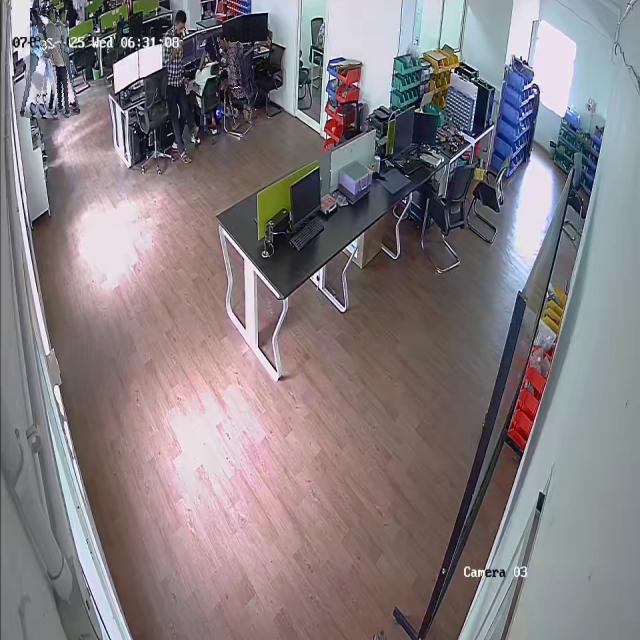person: (163, 10, 194, 164), (40, 10, 75, 119), (216, 29, 252, 124), (26, 8, 54, 119)
